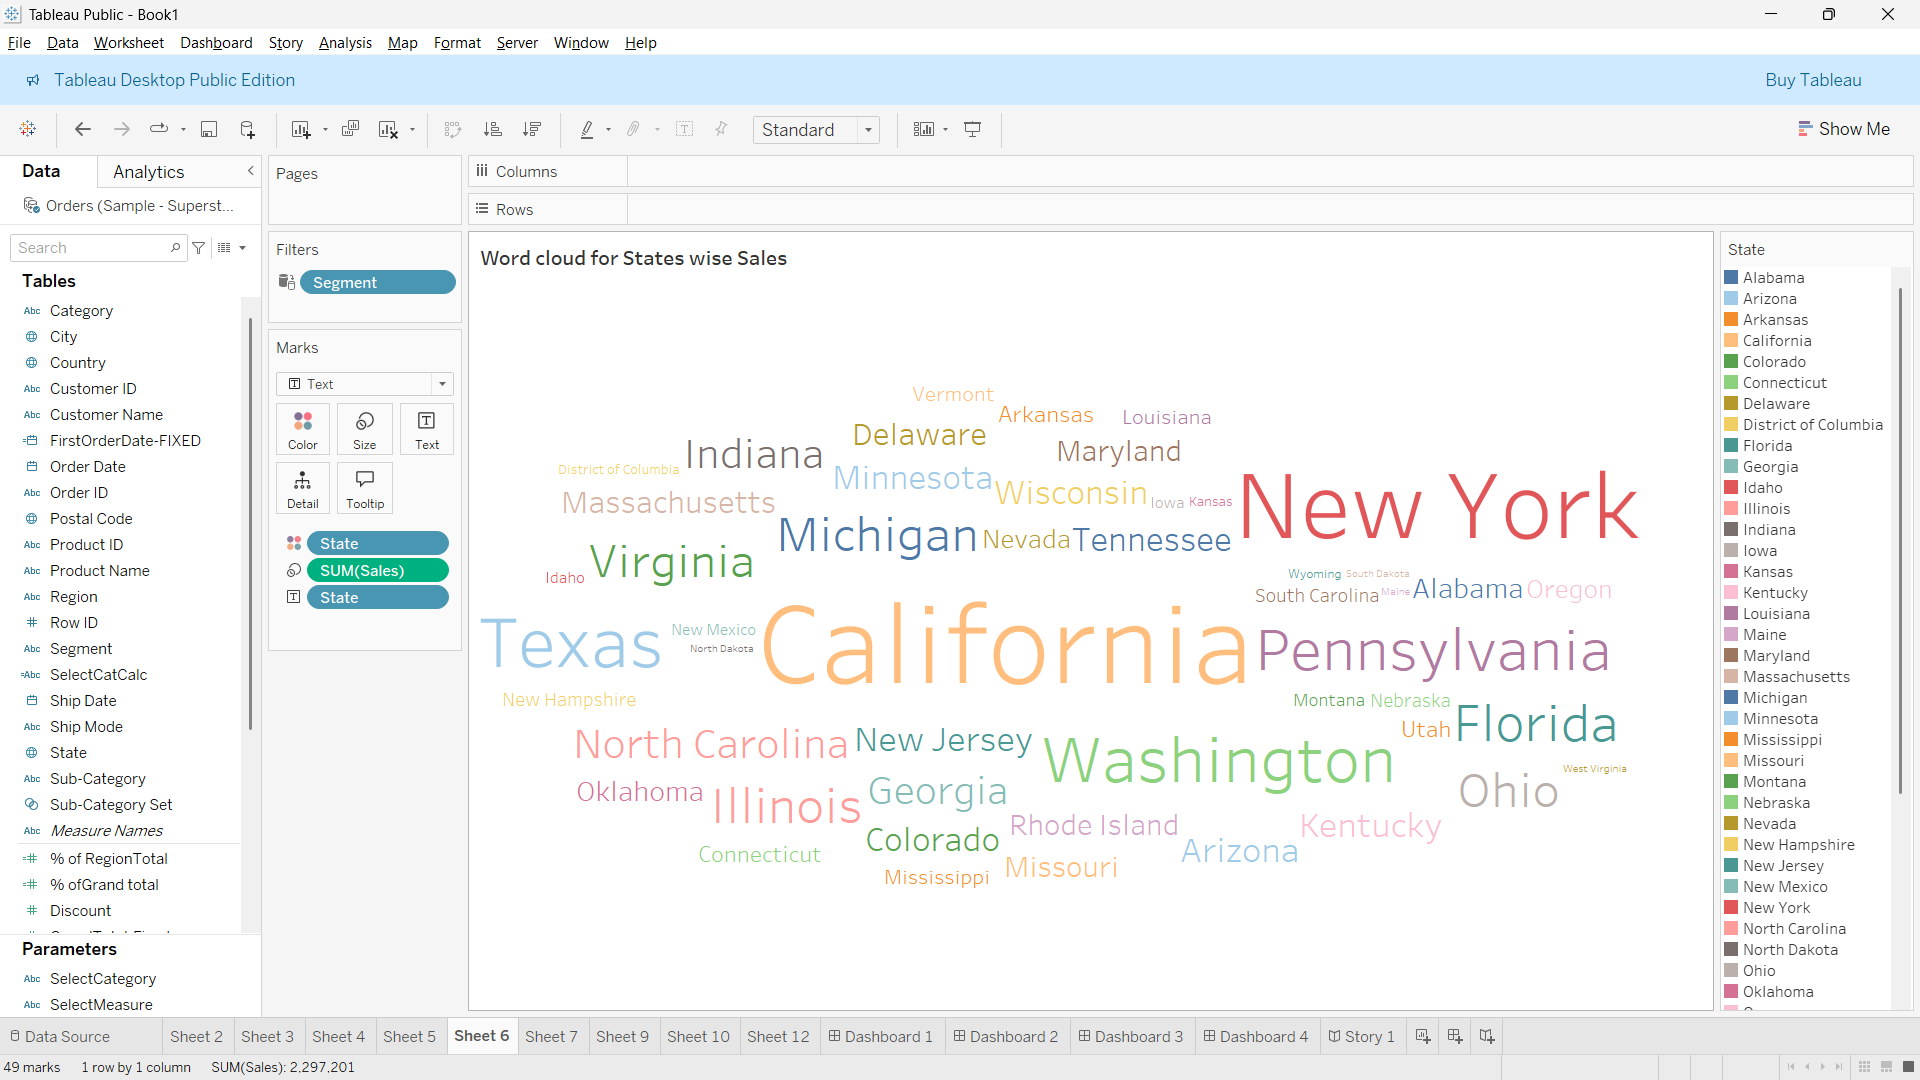

The dashboard page shown, as its layout file describes it:
{"tool":"tableau","page":{"name":"Dashboard 2","canvas":[650,860],"ordinal":1},"visuals":[{"type":"worksheet","title":"Sheet 9","mark":"Automatic","rows":["Sales","Calculation_1770477628958941184"],"cols":["Order Date"],"box":[8,8,317,422]},{"type":"worksheet","title":"Sheet 5","mark":"Pie","box":[325,8,317,422]},{"type":"worksheet","title":"Sheet 6","mark":"Text","box":[8,430,634,422]}]}

Visuals, with their boxes on the page's 650x860 design canvas (x1, y1, x2, y2). These are canvas units, not pixel positions in the 1920x1080 screenshot, which may show the page scaled, cropped or inside an application window:
"Sheet 9" worksheet: (x1=8, y1=8, x2=325, y2=430)
"Sheet 5" worksheet (Pie marks): (x1=325, y1=8, x2=642, y2=430)
"Sheet 6" worksheet (Text marks): (x1=8, y1=430, x2=642, y2=852)
